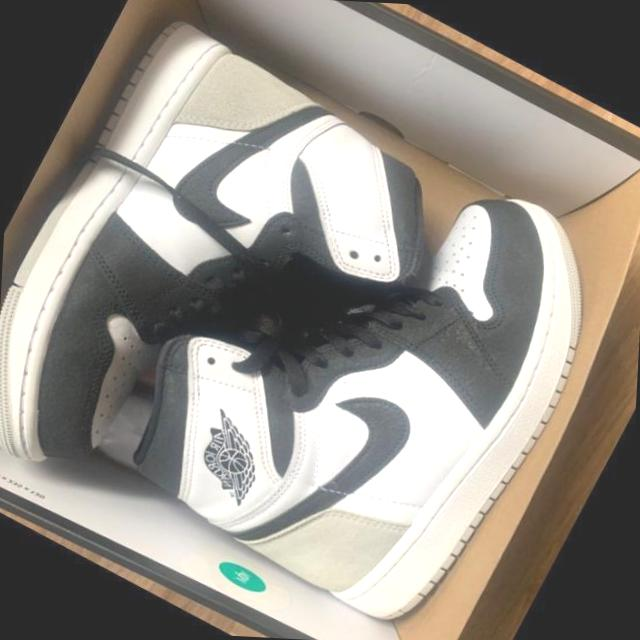nike_original_jordan: (95, 68, 640, 640), (0, 0, 492, 599)
